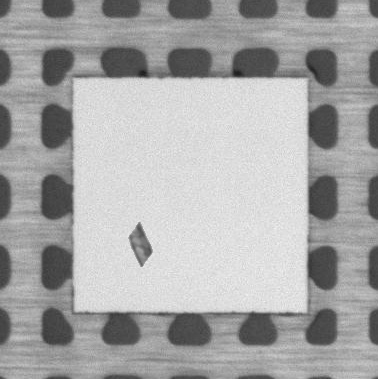DIE_INK: (127, 221, 156, 271)
